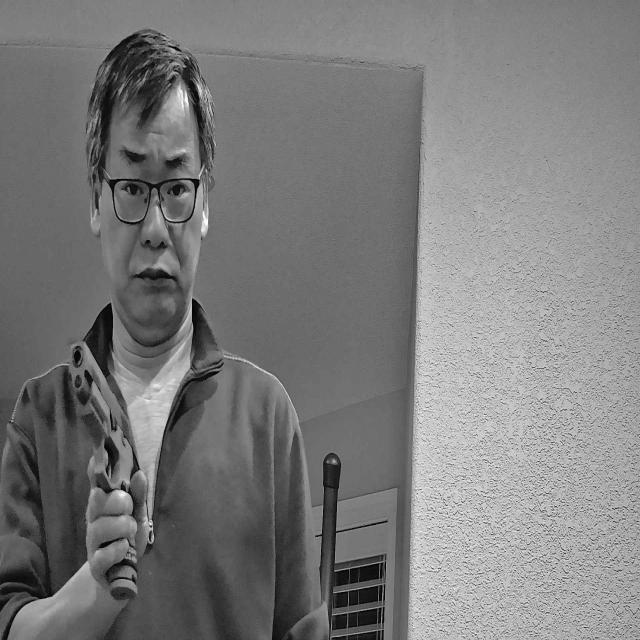Hand-Gun: (63, 337, 143, 606)
